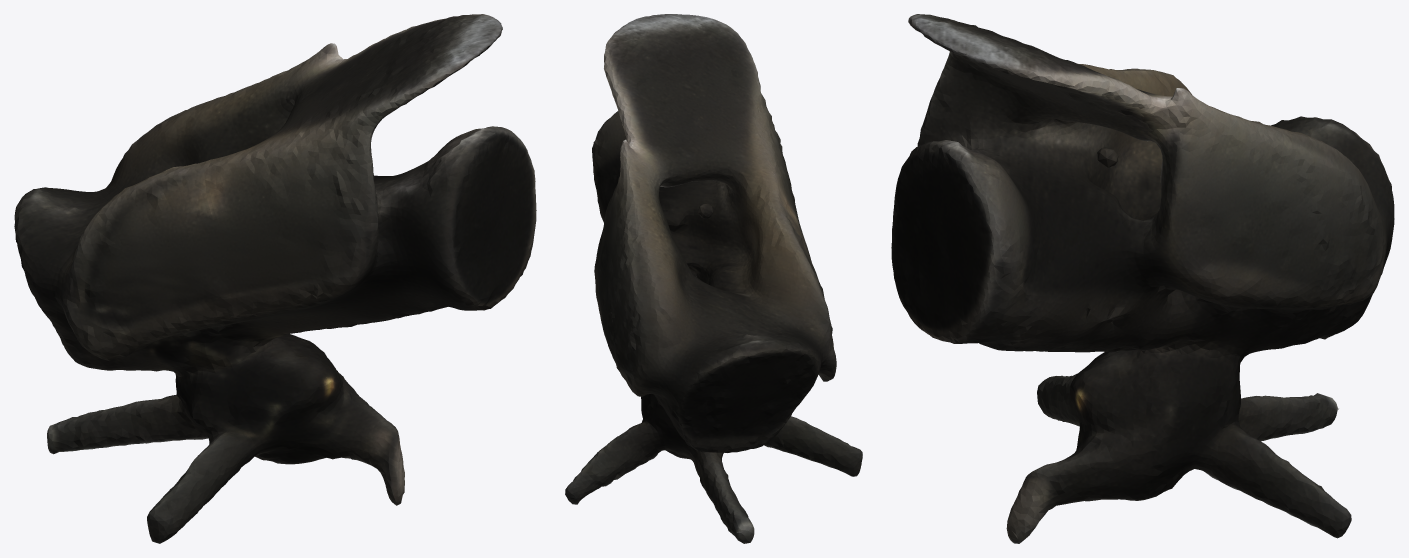
Rendered from IMG_SEG_48.glb.
3 renders of one model, left to right at view 1: azimuth 30°, elevation 25°; view 2: azimuth 150°, elevation 25°; view 3: azimuth 270°, elevation 25°, orthographic. The views are drawn at different scales.
Size of the model in its own units: 0.7346 by 0.846 by 0.7191.
Materials: 1 (1 with a texture image).
